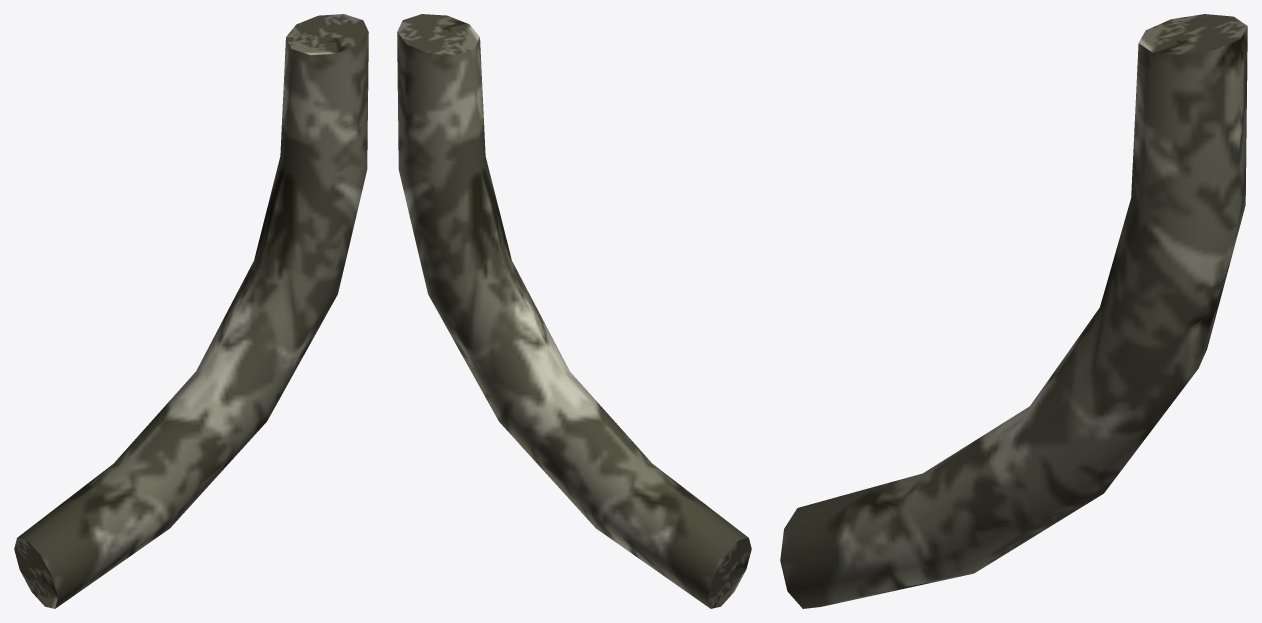
File: Medallion02.fbx
3 renders of one model, left to right at view 1: azimuth 30°, elevation 25°; view 2: azimuth 150°, elevation 25°; view 3: azimuth 330°, elevation 25°, orthographic. The views are drawn at different scales.
Visible parts, largest first — view 1: Medalion02; view 2: Medalion02; view 3: Medalion02.
Boxes of the visible parts, x1,y1,x2,y2 form: Medalion02: (14, 14, 368, 608); Medalion02: (397, 14, 751, 608); Medalion02: (780, 14, 1247, 608).
Bounding box in the file's own units: 0.5822 × 0.8419 × 0.129.
